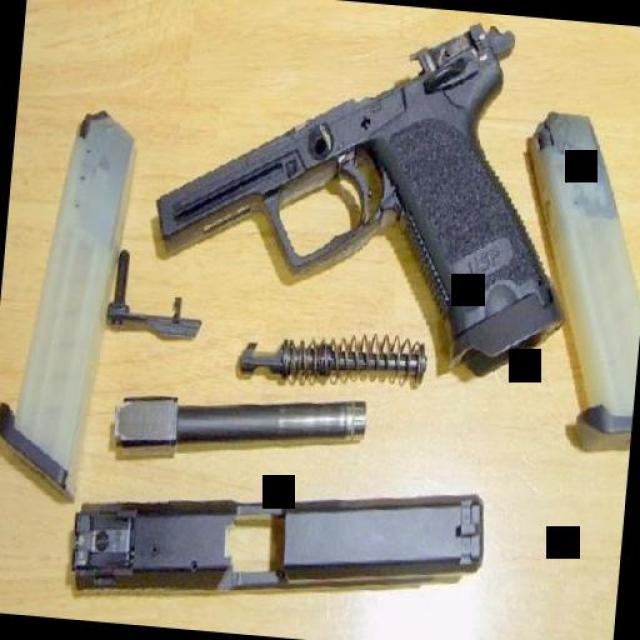gun: (142, 0, 598, 391)
